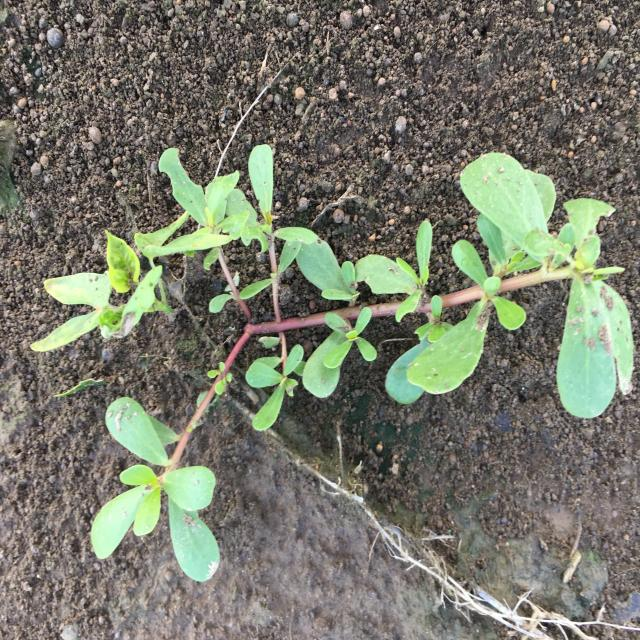MorningGlory: (30, 210, 232, 352)
Purslane: (91, 144, 634, 582)
